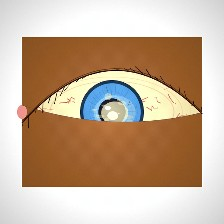corneal_ulcer: (93, 95, 137, 130)
